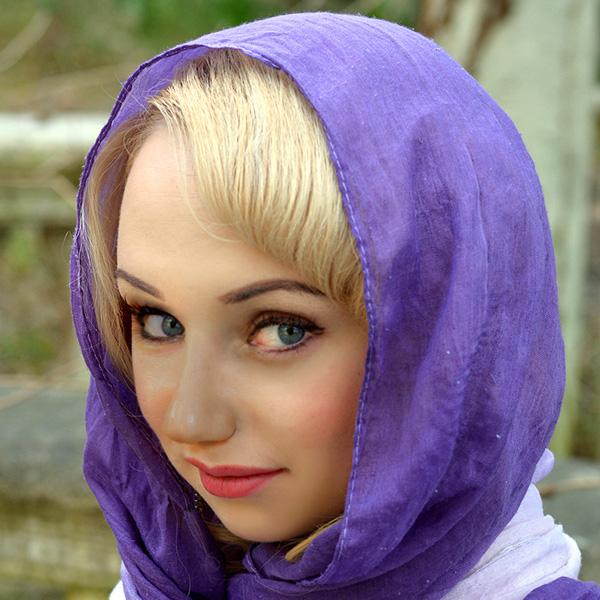Eyes: (229, 301, 327, 366), (122, 294, 195, 354)
